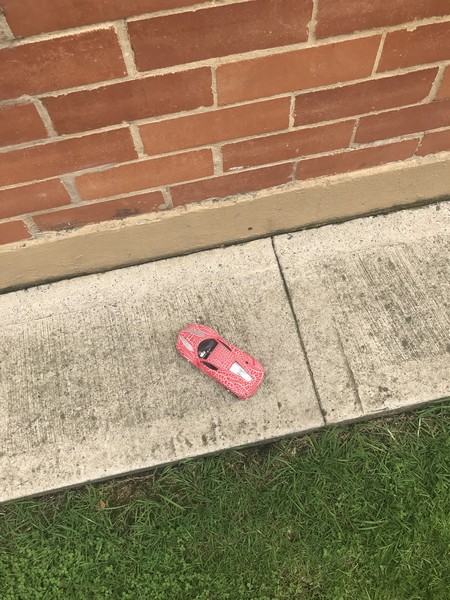RC: (171, 321, 266, 400)
